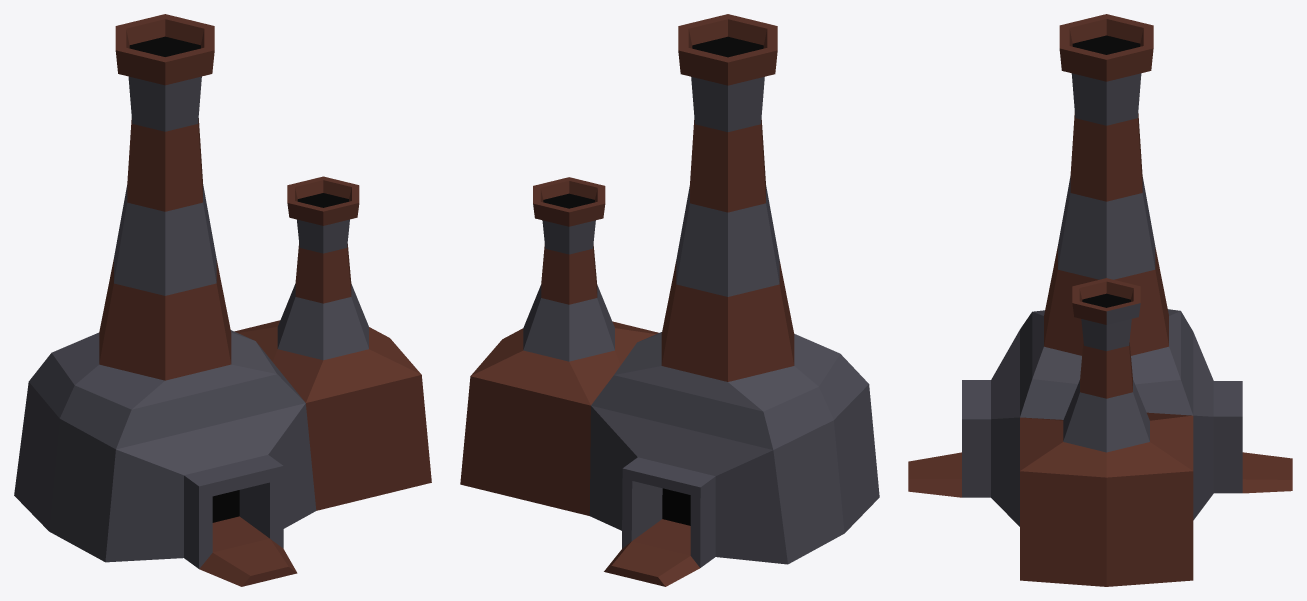
The model's file is Melter.fbx.
3 views of the same model, side by side, from view 1: azimuth 30°, elevation 25°; view 2: azimuth 150°, elevation 25°; view 3: azimuth 270°, elevation 25° (orthographic). The views are drawn at different scales.
Parts seen in each view (by area): view 1: Cube; view 2: Cube; view 3: Cube.
Part boxes in pixels (left/top/right/bottom): Cube: left=14, top=14, right=431, bottom=586; Cube: left=460, top=14, right=879, bottom=586; Cube: left=908, top=14, right=1292, bottom=586.
Size of the model in its own units: 666 by 845 by 665.
